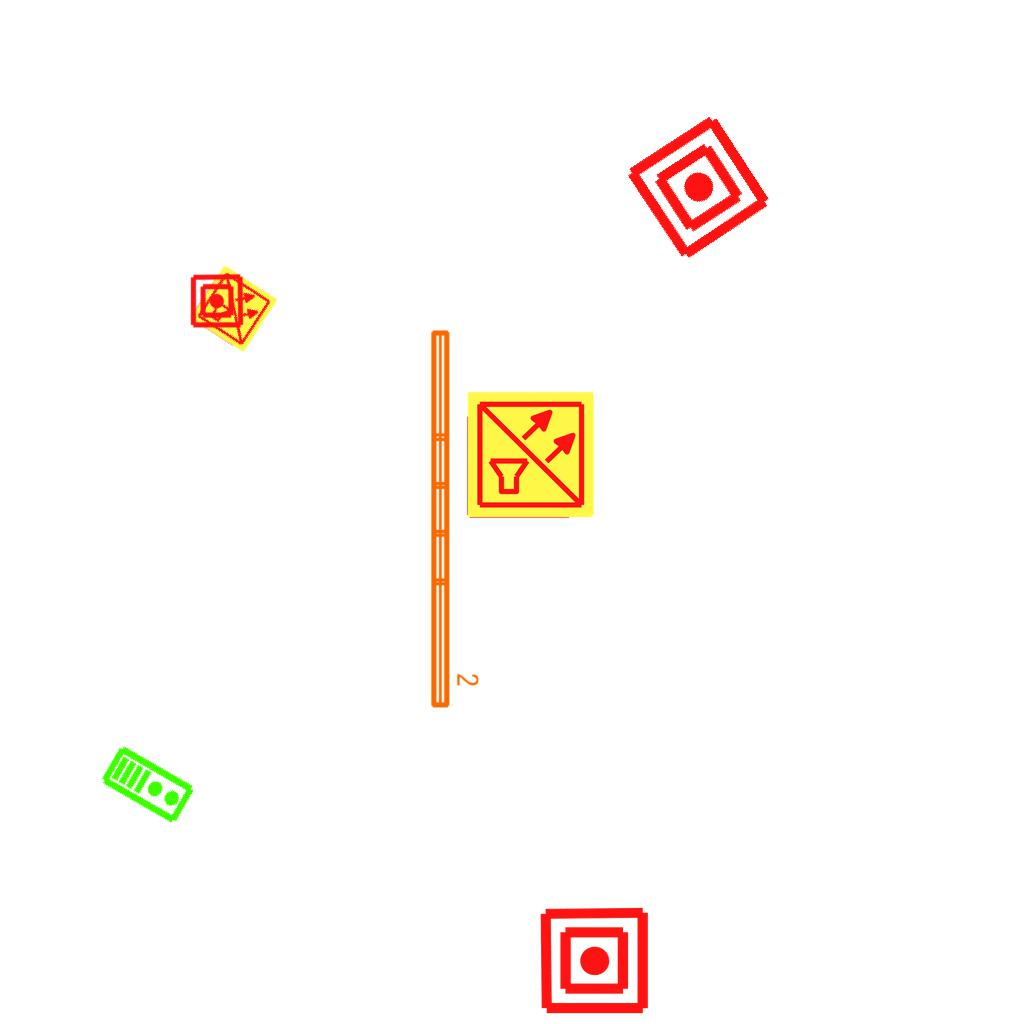Ambulanz_Pendelleuchte_LED: (425, 325, 481, 712)
Gegensprechanlage_mit_Video: (98, 741, 199, 827)
NAM-Nichtautomatischer_Melder: (620, 109, 777, 266), (538, 904, 651, 1017), (189, 273, 245, 329)
OKW_Multisensormelder_(Kombination_optischer_Rauch-Kahlenmonoxid_Waerme-Melder): (465, 389, 597, 521), (188, 263, 280, 355)
